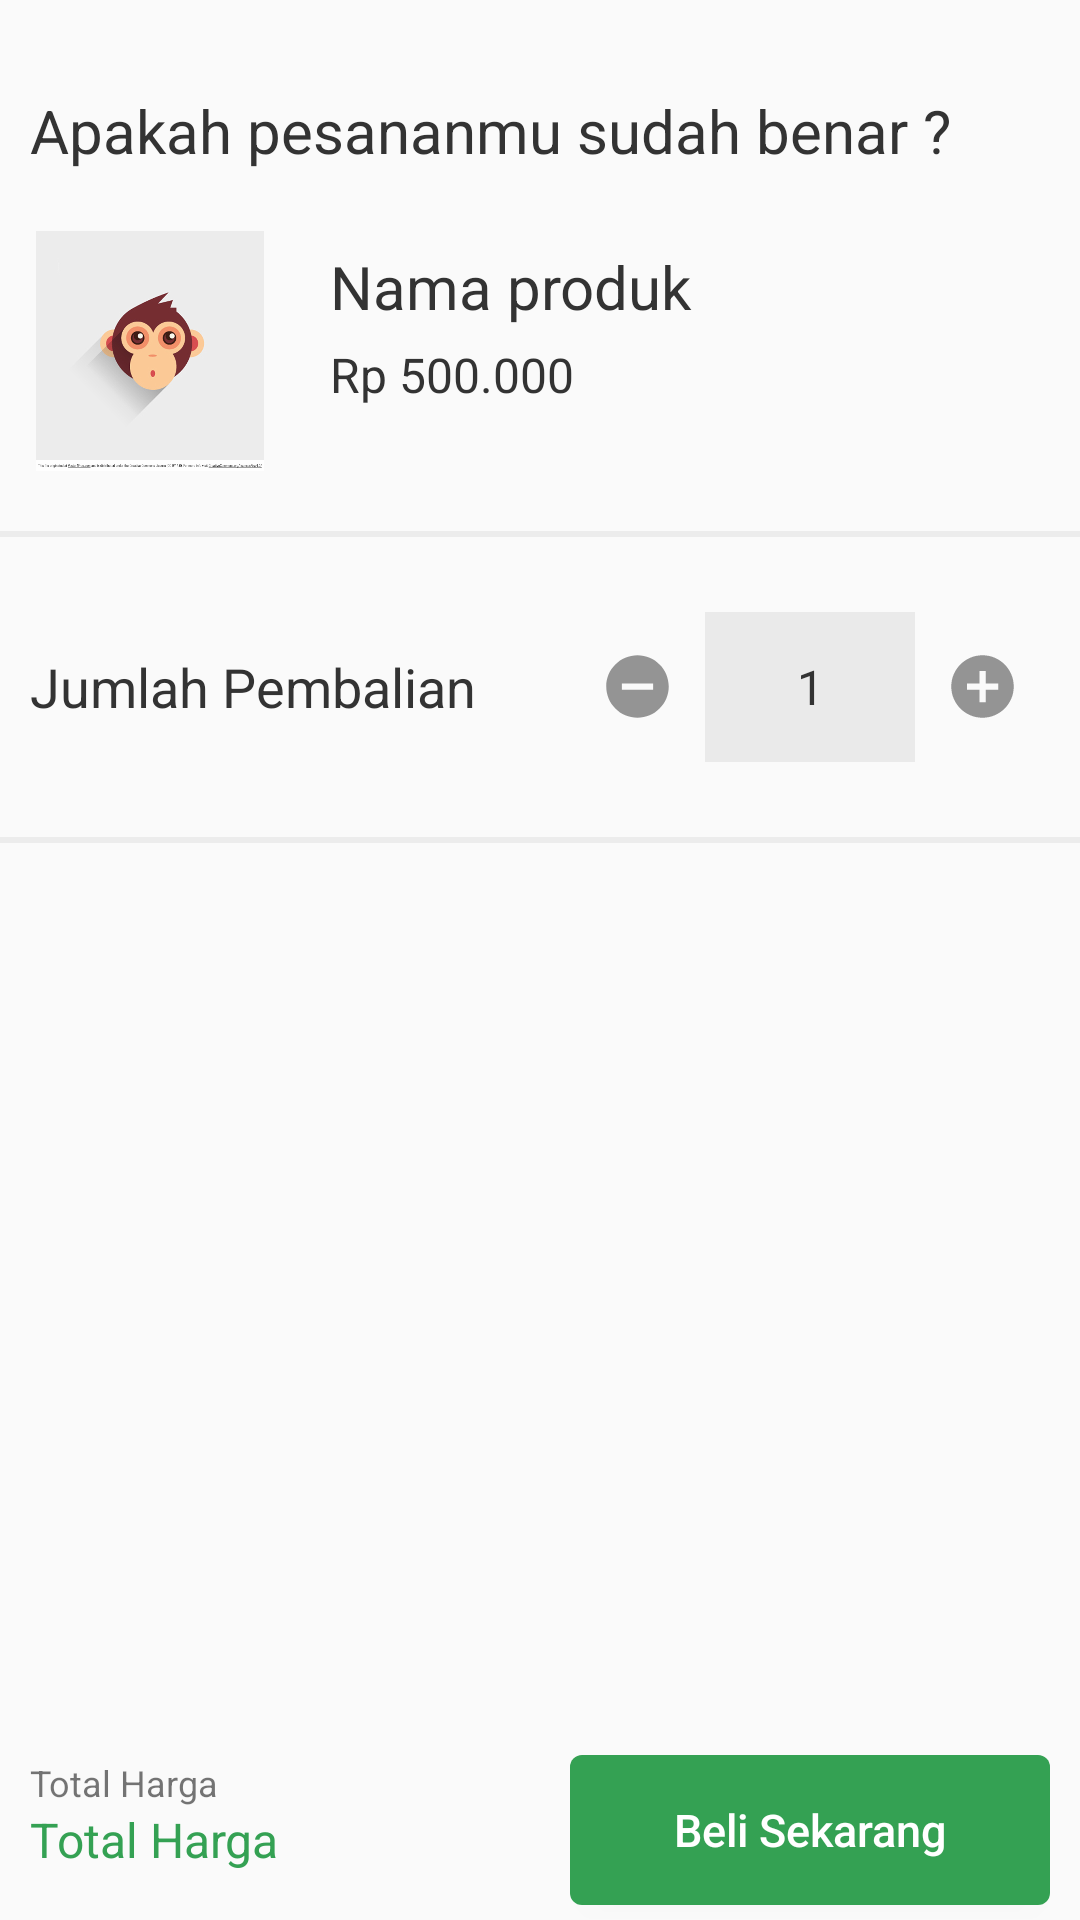

Icons on this 1080 x 1920 Android screen, each with the point to tap as (x=x, y=y):
kurang: (x=637, y=686)
monkey: (x=150, y=349)
tambah: (x=982, y=686)
